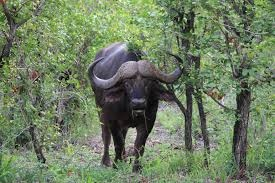buffalo: (86, 40, 185, 174)
